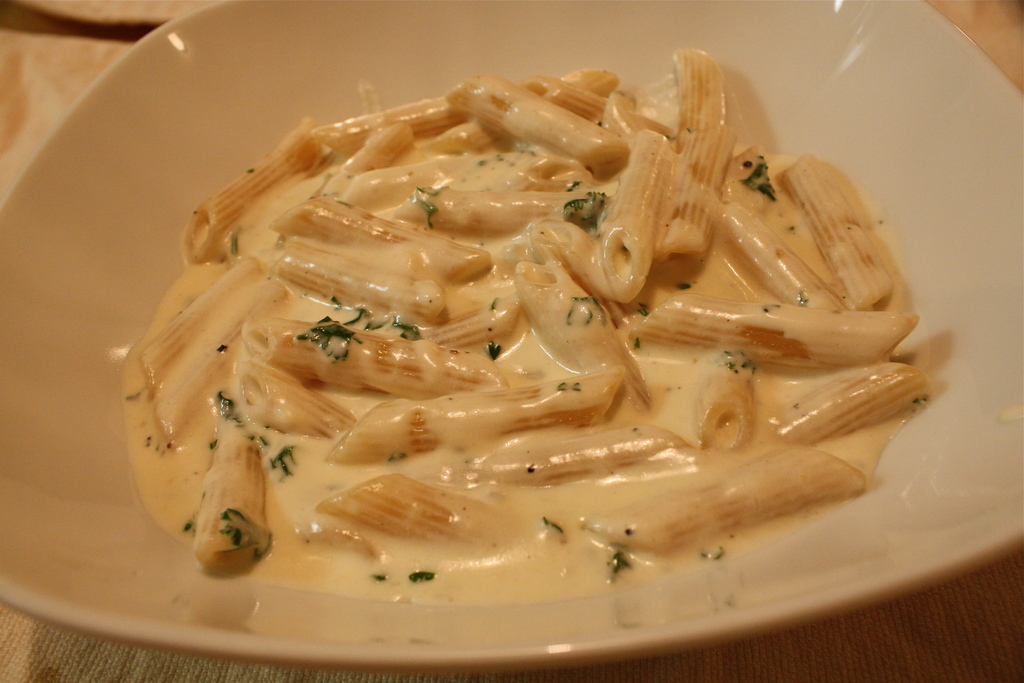pasta: (119, 55, 944, 616)
